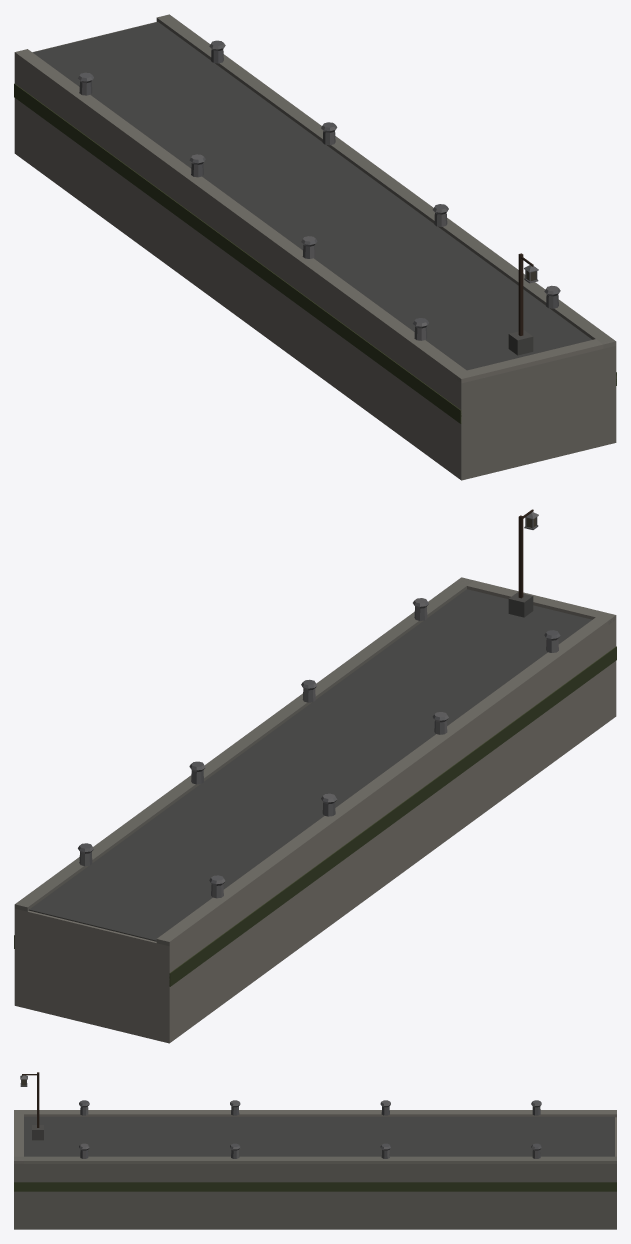
Rendered from walk_any_jetty.glb.
3 views of the same model, one above another, from view 1: azimuth 30°, elevation 25°; view 2: azimuth 150°, elevation 25°; view 3: azimuth 270°, elevation 25° (orthographic). The views are drawn at different scales.
Parts seen in each view (by area): view 1: walk_any_jetty; view 2: walk_any_jetty; view 3: walk_any_jetty.
Part boxes in pixels (box(x1,y1,x2,y2)): walk_any_jetty: box(14, 14, 616, 480); walk_any_jetty: box(14, 509, 616, 1043); walk_any_jetty: box(14, 1072, 616, 1229).
Size of what is drawn, in the model's own units: 6.06 by 7.2 by 30.
Materials: 2 (2 with a texture image).
